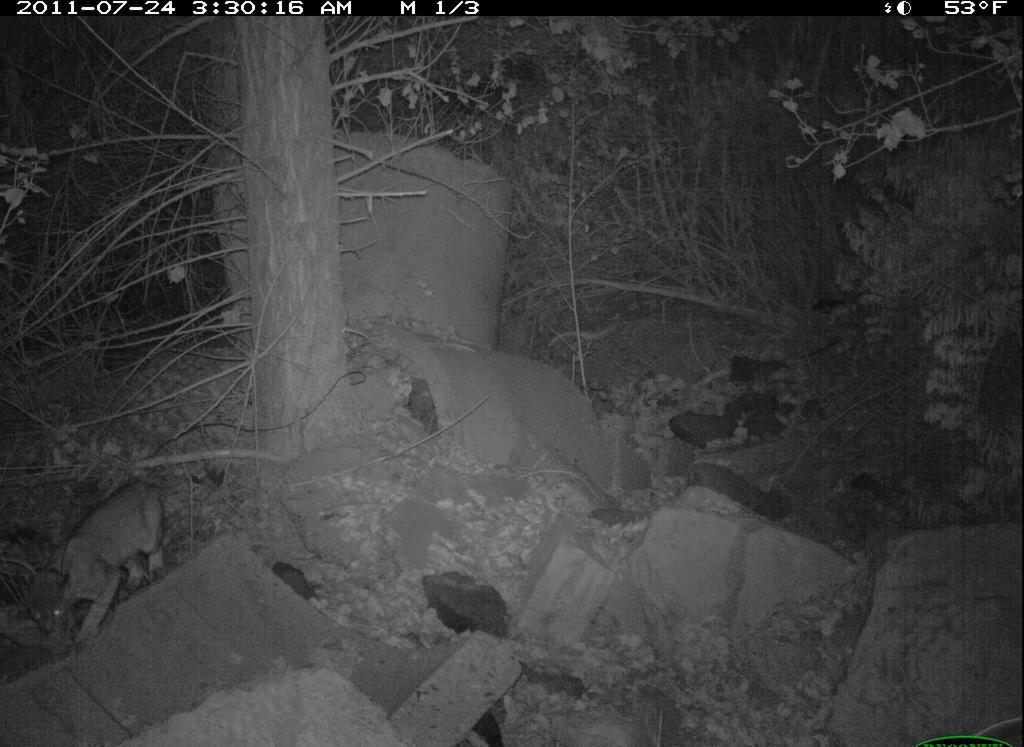bobcat: (18, 452, 191, 667)
